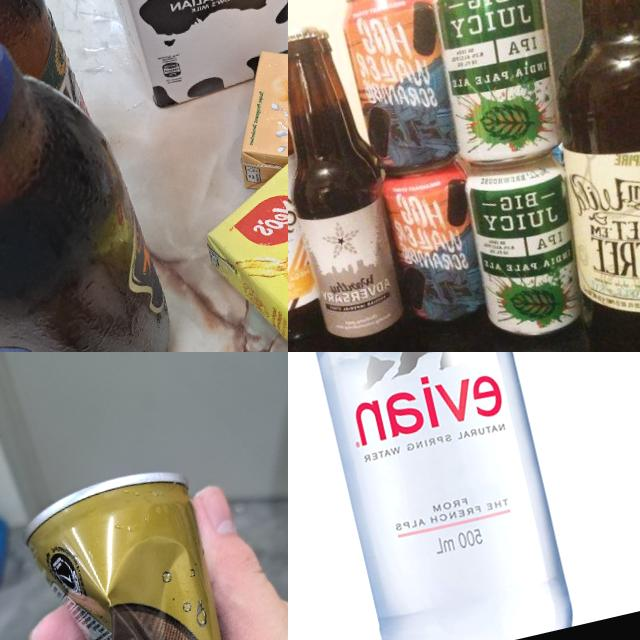caixinha: (191, 124, 288, 352), (96, 0, 288, 112), (211, 16, 288, 271)
garrafa de vidro: (0, 0, 183, 352), (492, 0, 640, 340), (288, 17, 413, 352), (288, 0, 335, 352), (0, 0, 91, 166)
garrafa plástica: (288, 352, 576, 640)
lata: (12, 461, 285, 640), (417, 0, 579, 177), (333, 0, 467, 177)
